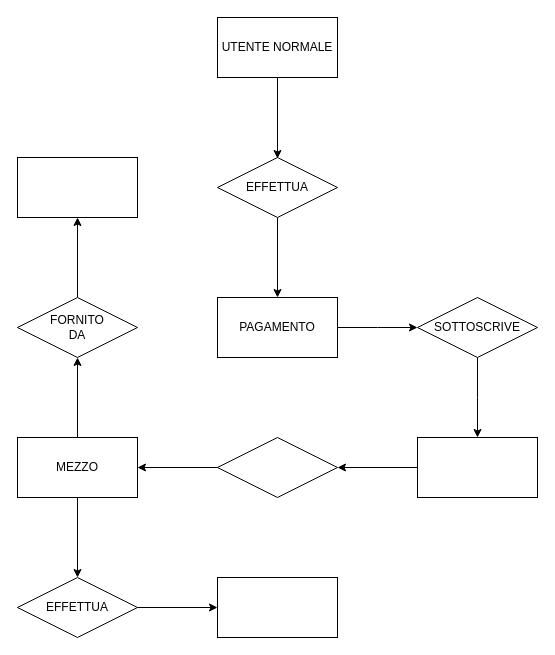
The diagram is 555 pixels wide and 655 high, and some of its shapes have lost their labels. The shapes that lost their labels are listed below. From the top down, each one's centre as x and y in pixels, then its label:
At [77,187]: "PARTNER".
At [277,467]: "SBLOCCA".
At [477,467]: "ABBONAMENTO".
At [277,607]: "CORSA".
